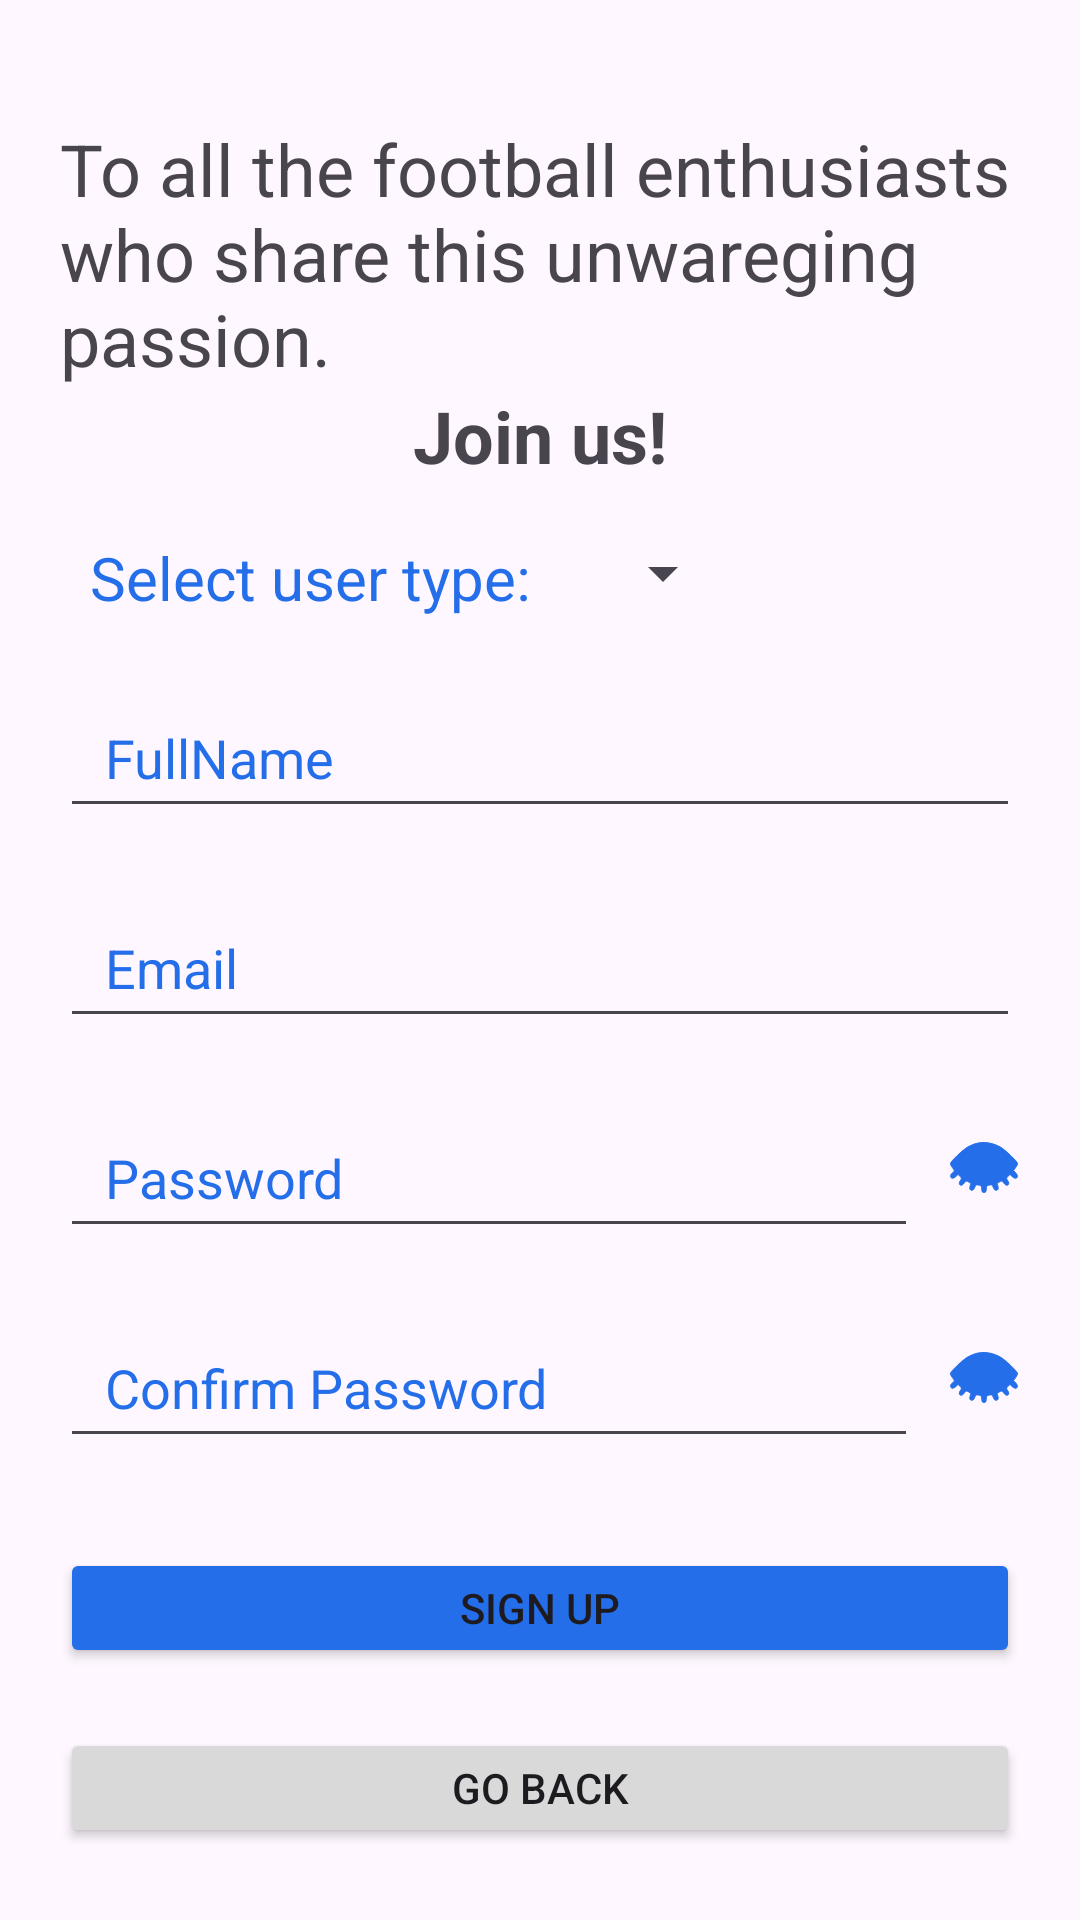

Icons on this 1080px x 1920px Android screen, each with its box as rect(x1, y1, x2, y2):
eye closed: rect(950, 1142, 1018, 1193), rect(950, 1352, 1018, 1403)
